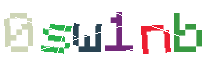0: (15, 0, 95, 80)
1: (74, 0, 154, 80)
B: (113, 0, 193, 80)
N: (89, 0, 169, 80)
S: (48, 0, 128, 80)
W: (65, 0, 145, 80)
